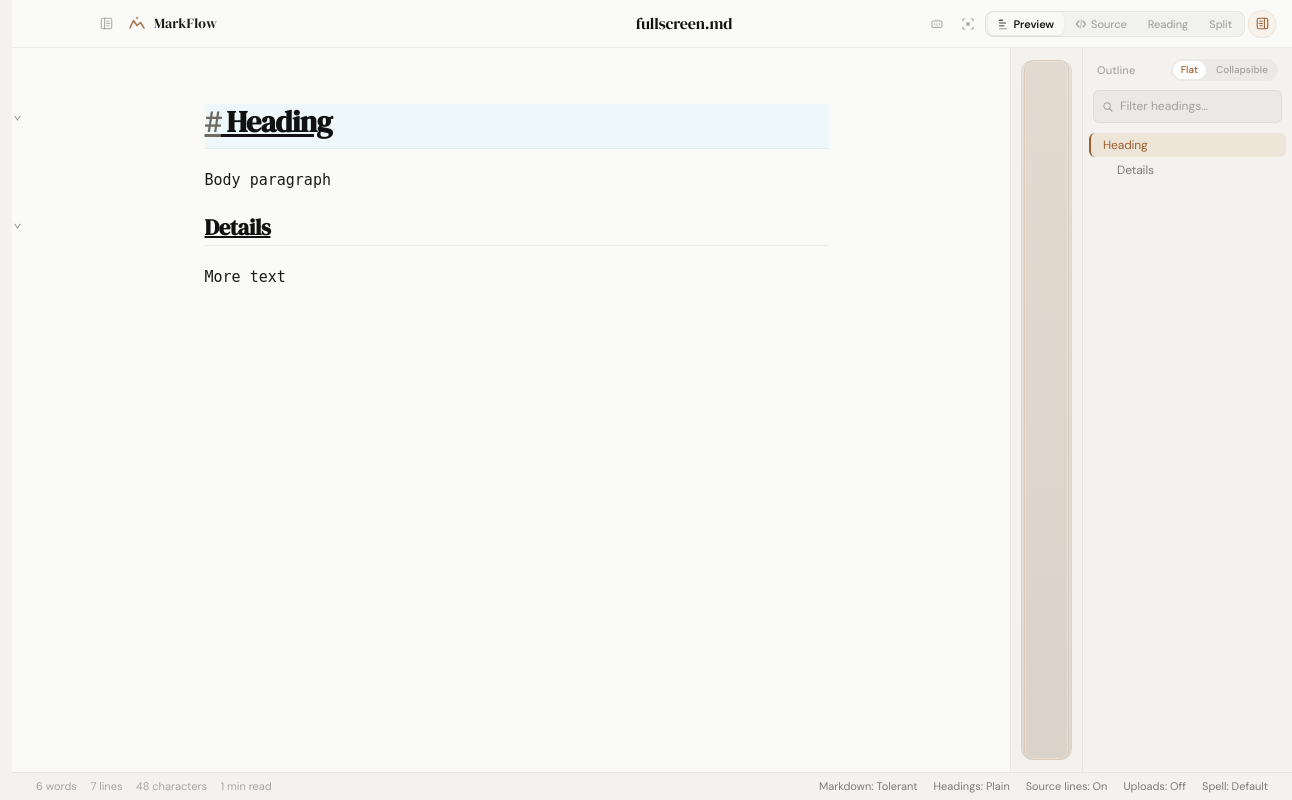
Test case: App desktop integration › restores the previous panel state after fullscreen exits
Check: the button named "Document minimap" is shown, box [1021,60,1072,760]
Step 1. Click the button named "Collapse outline" → click(1262, 24), box [1248,10,1276,38]
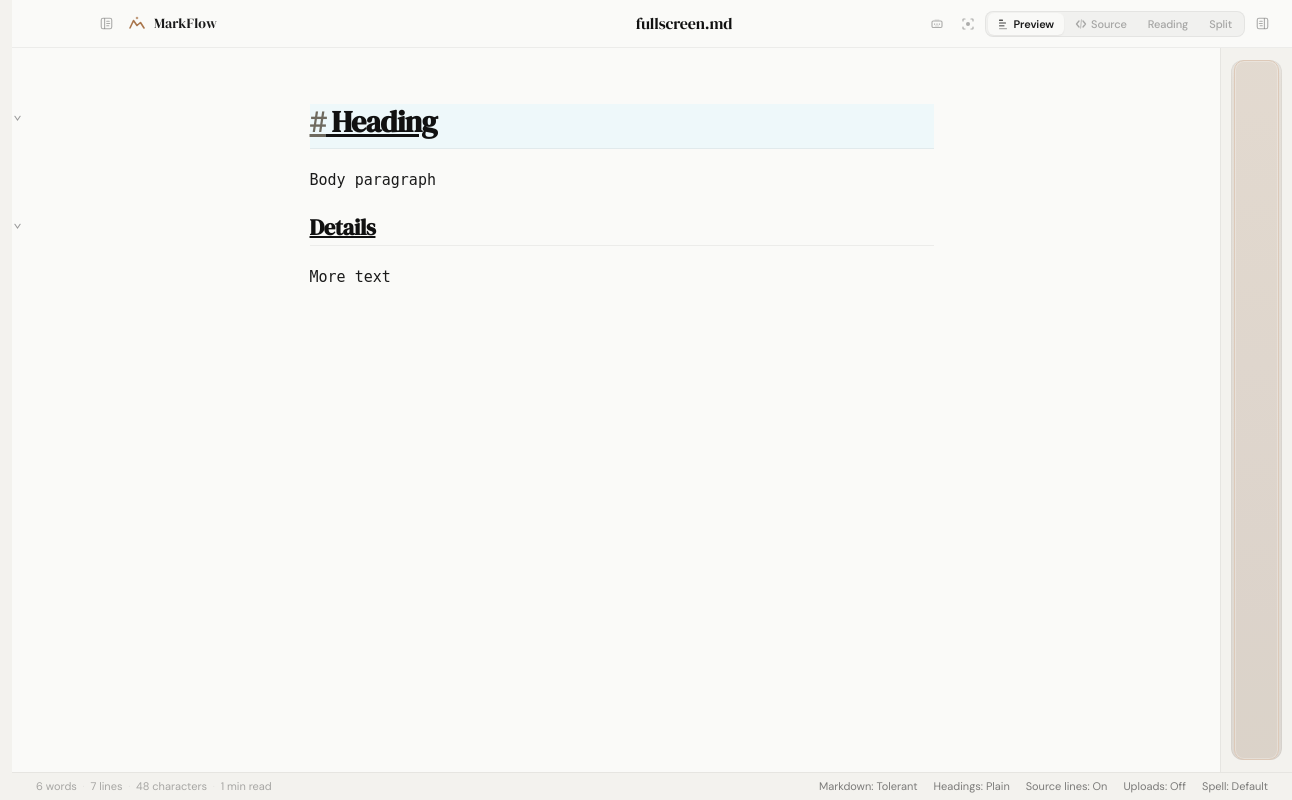
Check: the button "Expand outline" is gone
Check: the button named "Expand outline" is shown, box [1248,10,1276,38]
Check: the text "Outline" is gone
